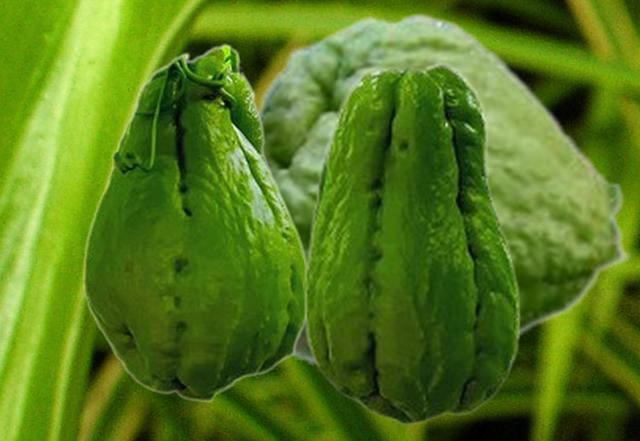sayote: (257, 11, 632, 374), (82, 43, 307, 402), (303, 61, 520, 425)
